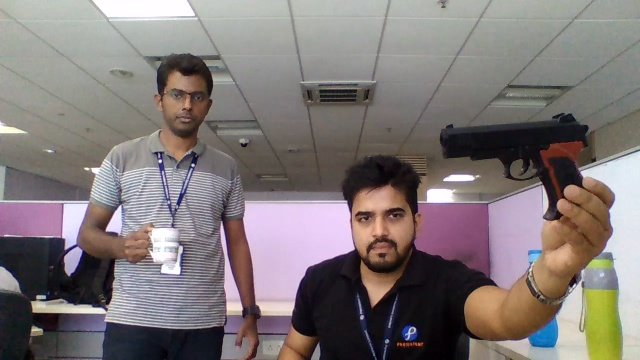gun: (440, 113, 589, 174)
